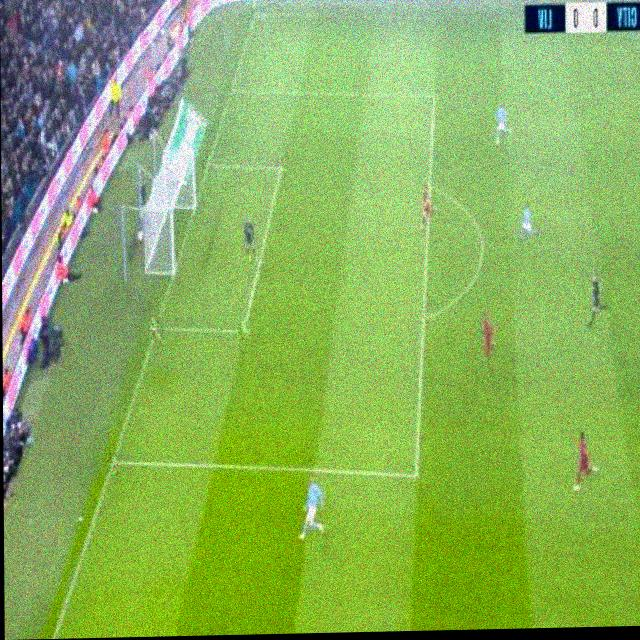bigarea_bottom_inner: (409, 463, 423, 487)
bigarea_bottom_outter: (107, 451, 120, 476)
bigarea_top_inner: (430, 88, 438, 104)
bigarea_top_outter: (202, 157, 213, 173), (227, 83, 237, 97)
bottom_arc_area_intersection: (418, 309, 428, 327)
corner: (249, 6, 260, 21)
smallarea_bottom_inner: (238, 321, 251, 341)
smallarea_bottom_outter: (149, 317, 164, 340)
smallarea_top_inner: (274, 159, 285, 178)
top_arc_area_intersection: (425, 180, 436, 195)
